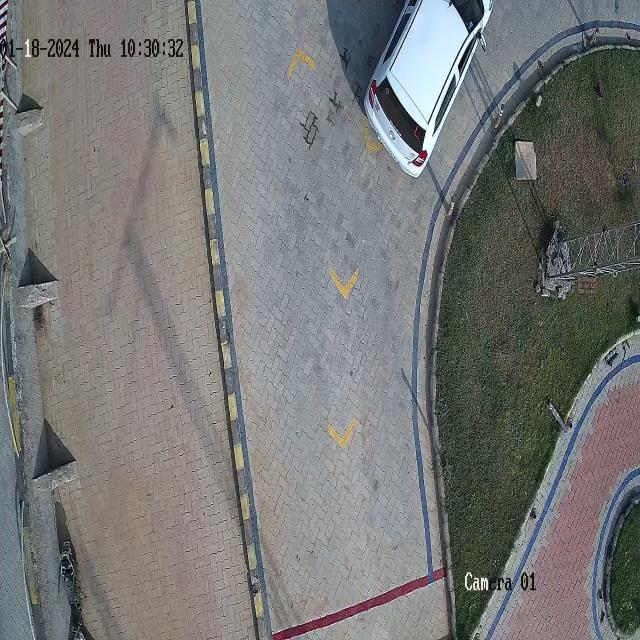car: (363, 0, 497, 177)
